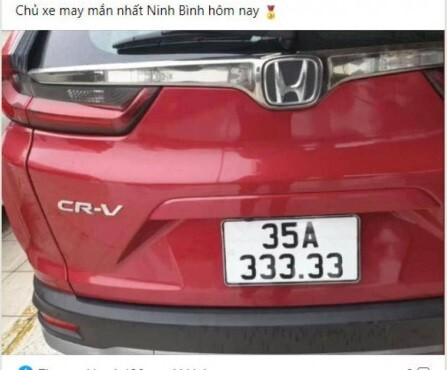number_plate: (218, 217, 370, 292)
